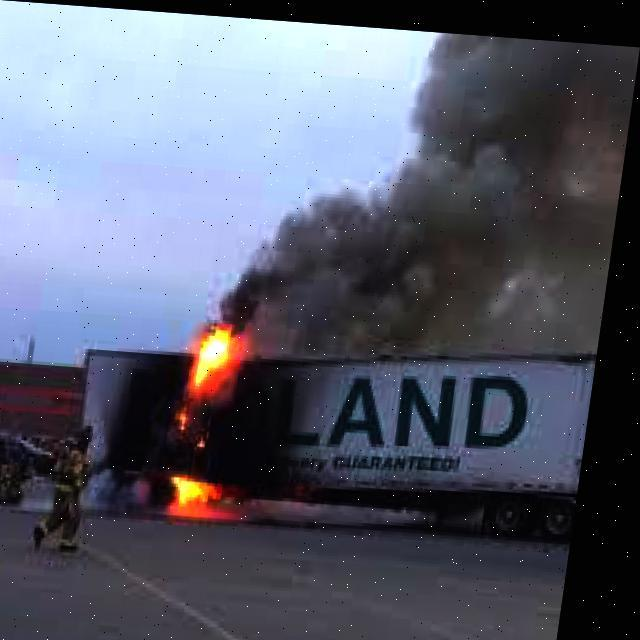Fire: (150, 310, 296, 523)
